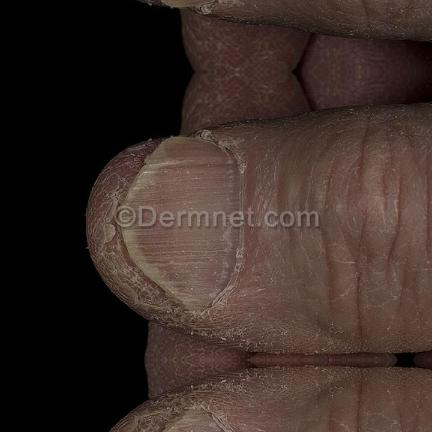Nail: (118, 135, 242, 310), (162, 410, 230, 432), (160, 0, 219, 9)
